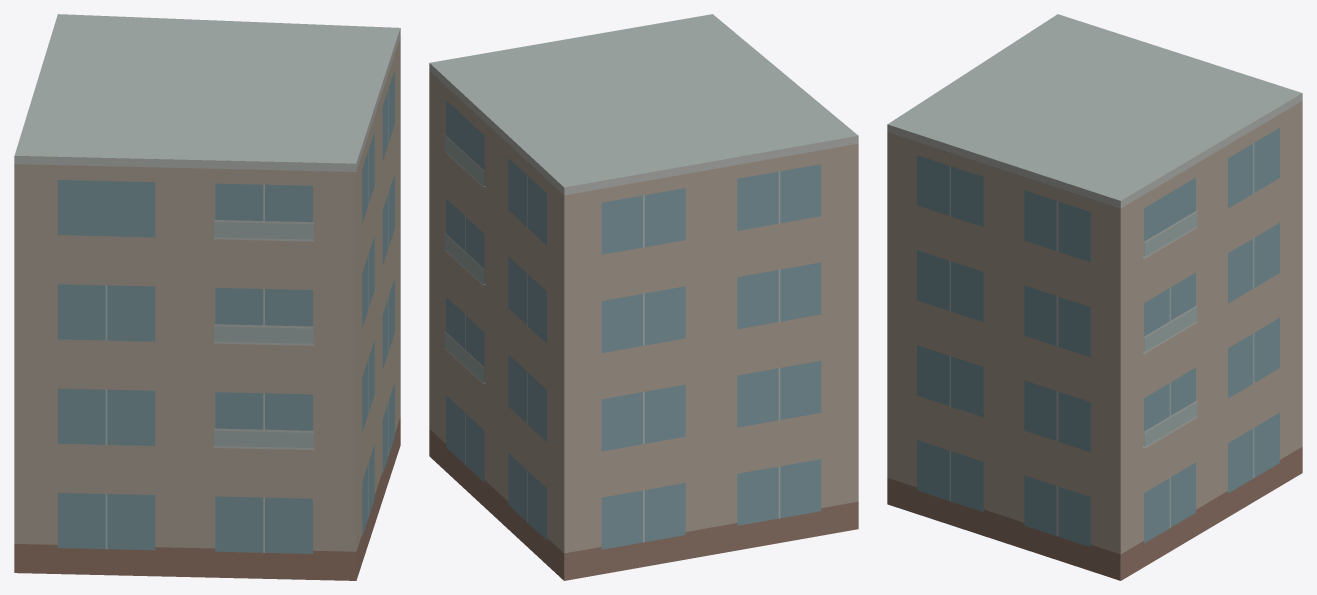
Rendered from survey-upis-32806610.glb.
3 views of the same model, side by side, from view 1: azimuth 30°, elevation 25°; view 2: azimuth 150°, elevation 25°; view 3: azimuth 270°, elevation 25° (orthographic). The views are drawn at different scales.
Parts seen in each view (by area): view 1: survey-upis-32806610.tmp; view 2: survey-upis-32806610.tmp; view 3: survey-upis-32806610.tmp.
Part boxes in pixels (x1,y1,x2,y2): survey-upis-32806610.tmp: (14, 14, 400, 580); survey-upis-32806610.tmp: (429, 14, 858, 580); survey-upis-32806610.tmp: (887, 14, 1302, 580).
Size of the model in its own units: 12.88 by 12.2 by 12.09.
